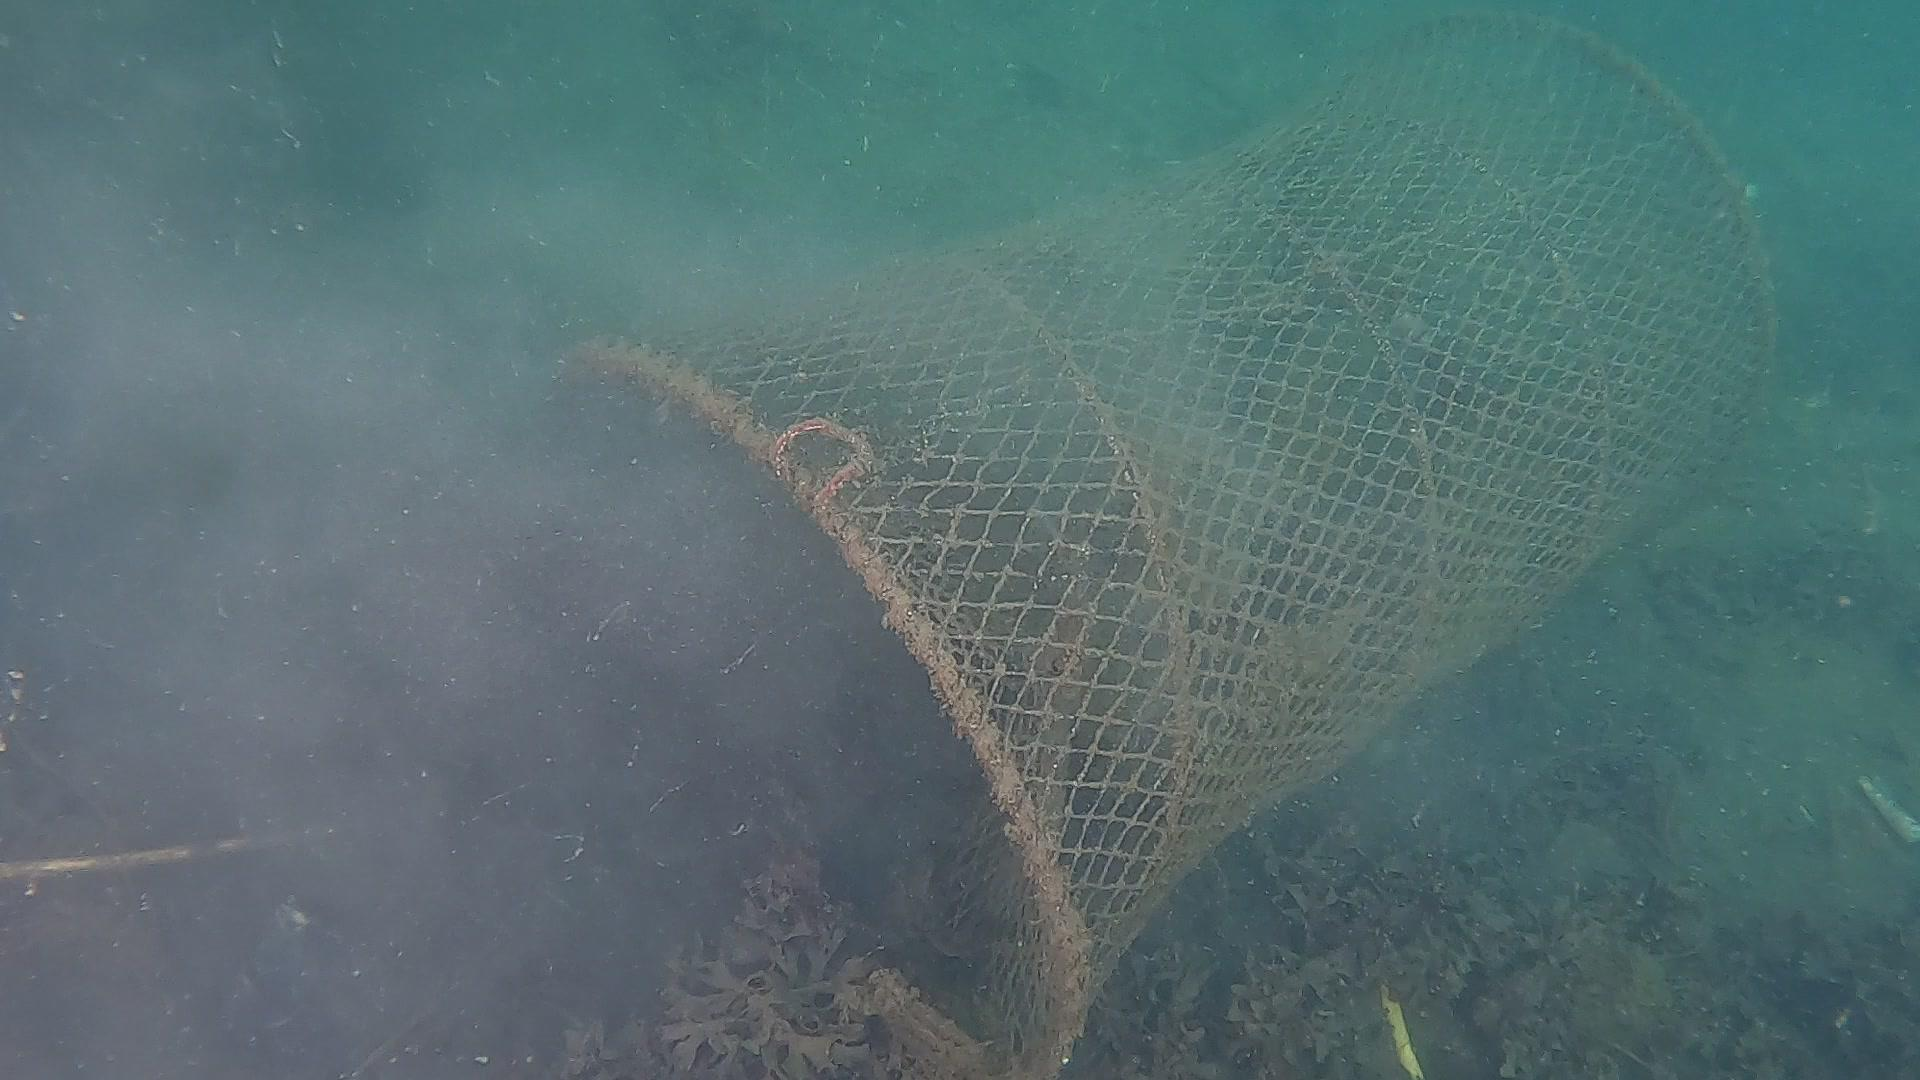spring fish trap: (534, 9, 1782, 1080)
